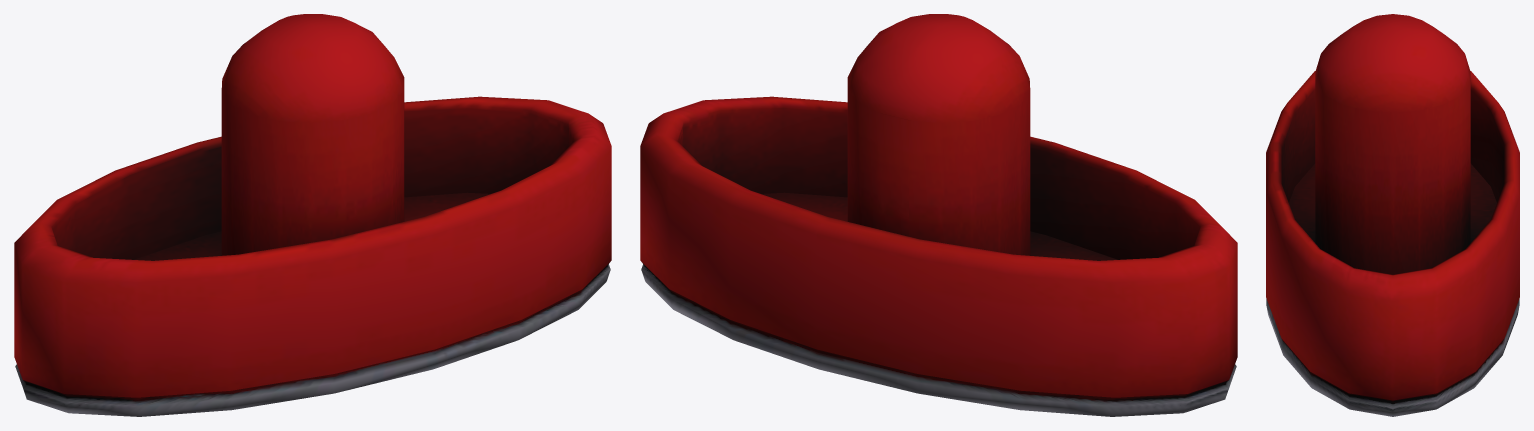
File: hockey_paddle.obj
3 views of the same model, side by side, from view 1: azimuth 30°, elevation 25°; view 2: azimuth 150°, elevation 25°; view 3: azimuth 270°, elevation 25° (orthographic). The views are drawn at different scales.
Visible parts, largest first — view 1: group1; view 2: group1; view 3: group1.
Boxes of the visible parts, x1,y1,x2,y2 form: group1: (14,14,611,416); group1: (640,14,1237,416); group1: (1266,14,1519,416).
Size of the model in its own units: 37.8 by 18.9 by 16.22.
1 material, 1 textured.
